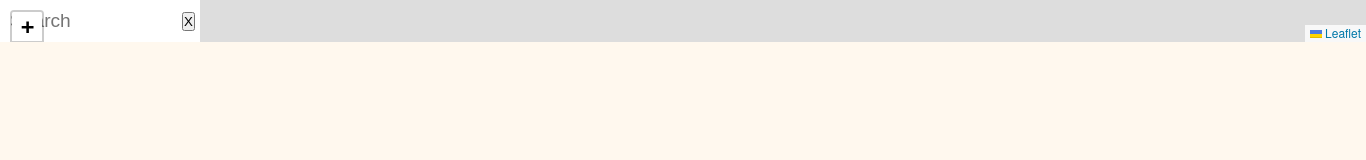
Test: SearchBar Component › User interface test - Input field can be cleared
The width and height of the screenshot is (1366, 160).
Type "new value" into the field at (94, 21), box x1=5 y1=5 x2=182 y2=37
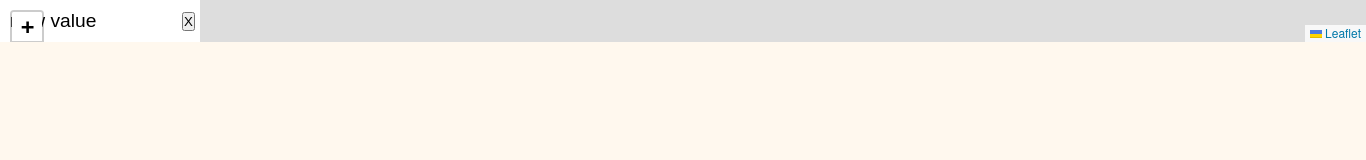
Click the button "X" at (189, 21), box x1=182 y1=12 x2=195 y2=30
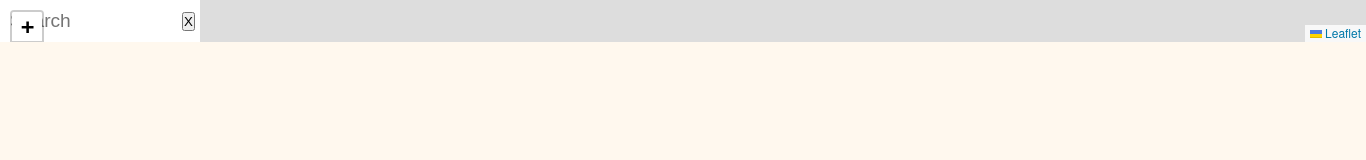
Expected: the field is empty, x1=5 y1=5 x2=182 y2=37
